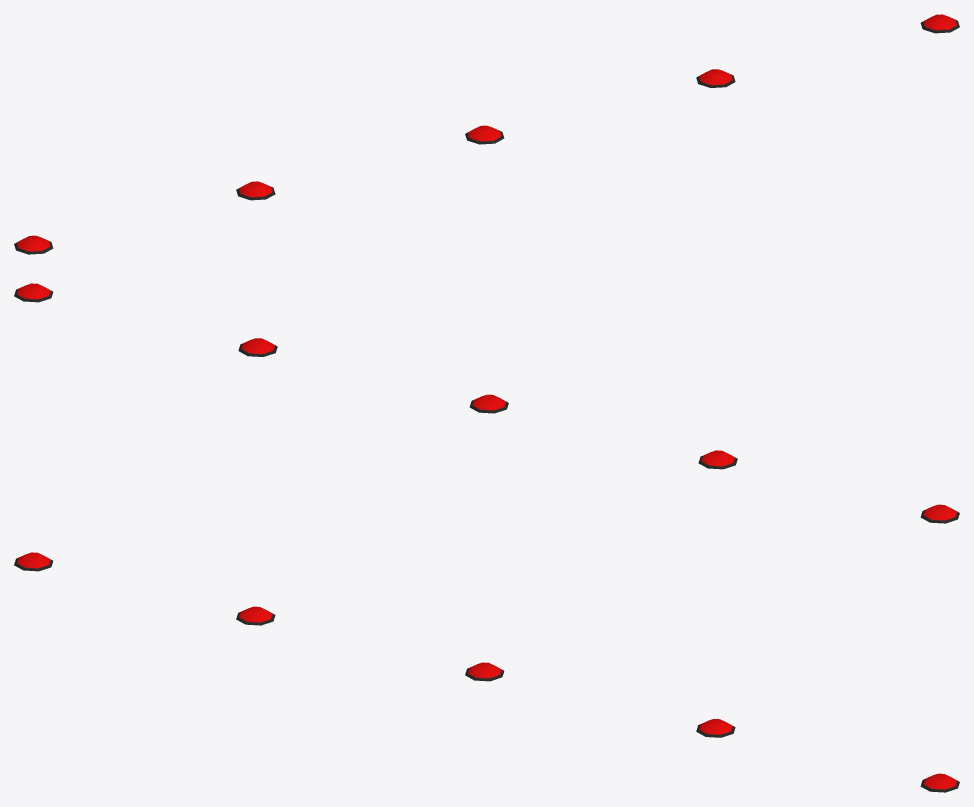
File: defaultconelr.glb
3 renders of one model, top to bottom at view 1: azimuth 30°, elevation 25°; view 2: azimuth 150°, elevation 25°; view 3: azimuth 330°, elevation 25°, orthographic.
Visible parts, largest first — view 1: DefaultConeLR; view 2: DefaultConeLR; view 3: DefaultConeLR.
Boxes of the visible parts, left/top/right/bottom form: DefaultConeLR: left=14, top=14, right=959, bottom=254; DefaultConeLR: left=14, top=283, right=959, bottom=523; DefaultConeLR: left=14, top=552, right=959, bottom=792.
Bounding box in the file's own units: 8.31 × 0.0614 × 0.312.
Materials: 1 (1 with a texture image).
